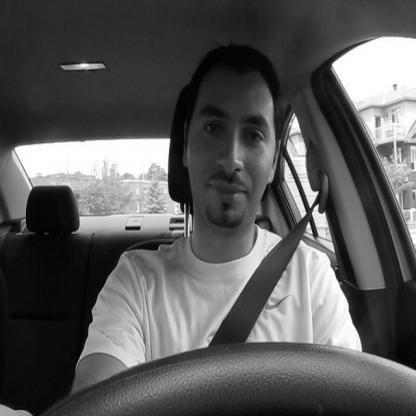seatbelt: (147, 34, 304, 344)
